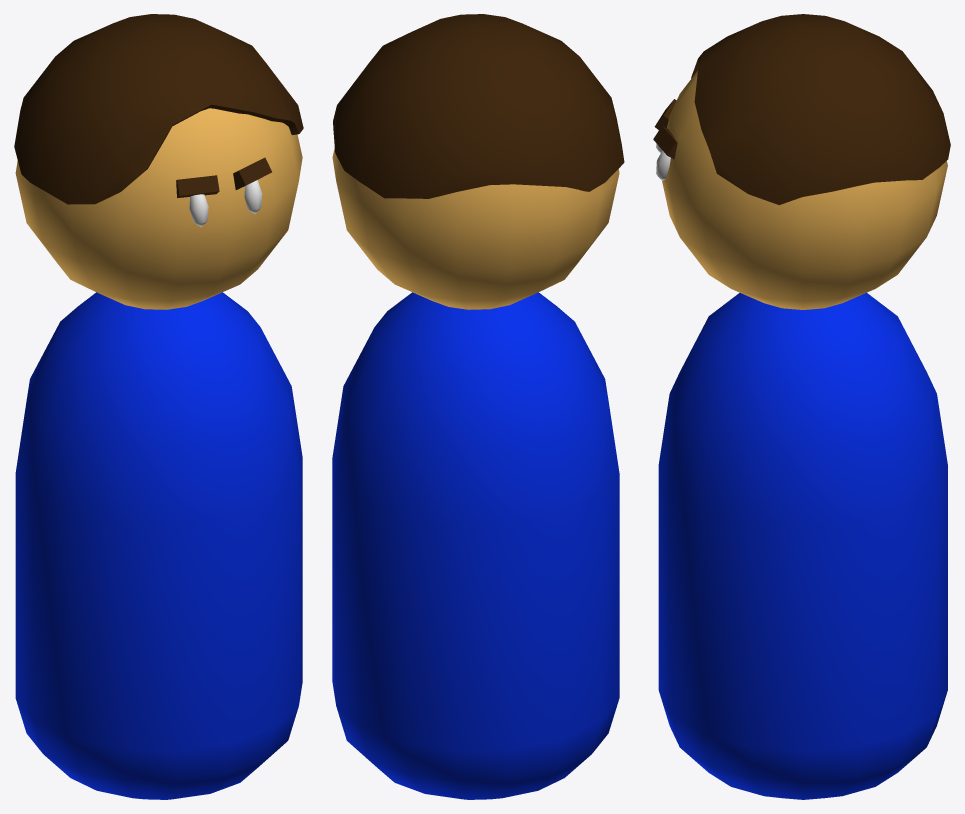
The model's file is Human.glb.
The picture shows the model from 3 angles, left to right: view 1: azimuth 30°, elevation 25°; view 2: azimuth 150°, elevation 25°; view 3: azimuth 270°, elevation 25°; orthographic projection.
Parts seen in each view (by area): view 1: Human; view 2: Human; view 3: Human.
Boxes of the visible parts, box(x1,y1,x2,y2) form: Human: box(14, 14, 303, 799); Human: box(332, 14, 624, 799); Human: box(653, 14, 950, 799).
Size of the model in its own units: 0.6414 by 1.82 by 0.6483.
